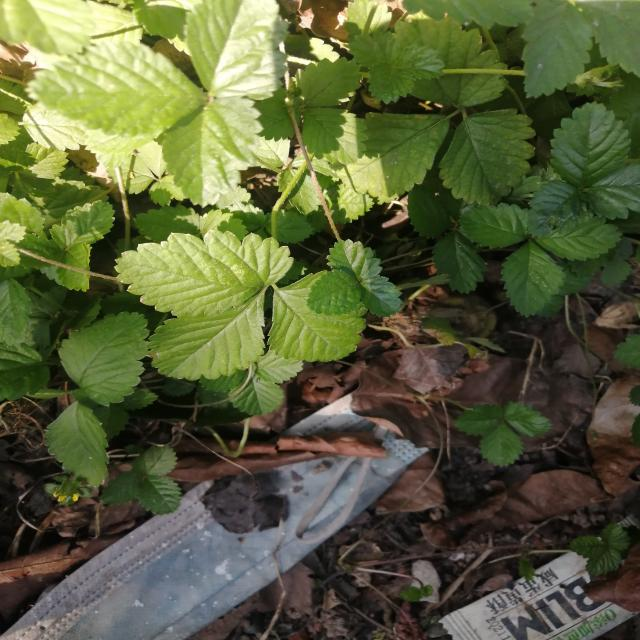Mock_strawberry: (46, 7, 314, 170), (110, 235, 378, 364)
